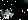person: (2, 7, 9, 19), (11, 11, 16, 20)
